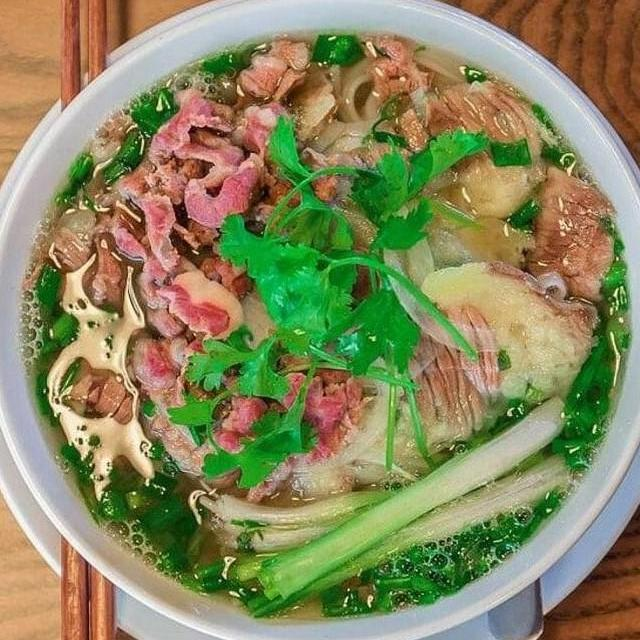banh pho: (304, 37, 468, 164)
pho bo: (0, 33, 640, 618)
thit bo: (378, 254, 606, 466), (356, 23, 568, 231), (210, 334, 362, 518), (100, 166, 248, 345), (33, 203, 148, 432), (143, 96, 280, 270), (514, 156, 618, 328), (126, 332, 236, 492), (232, 32, 316, 114)
